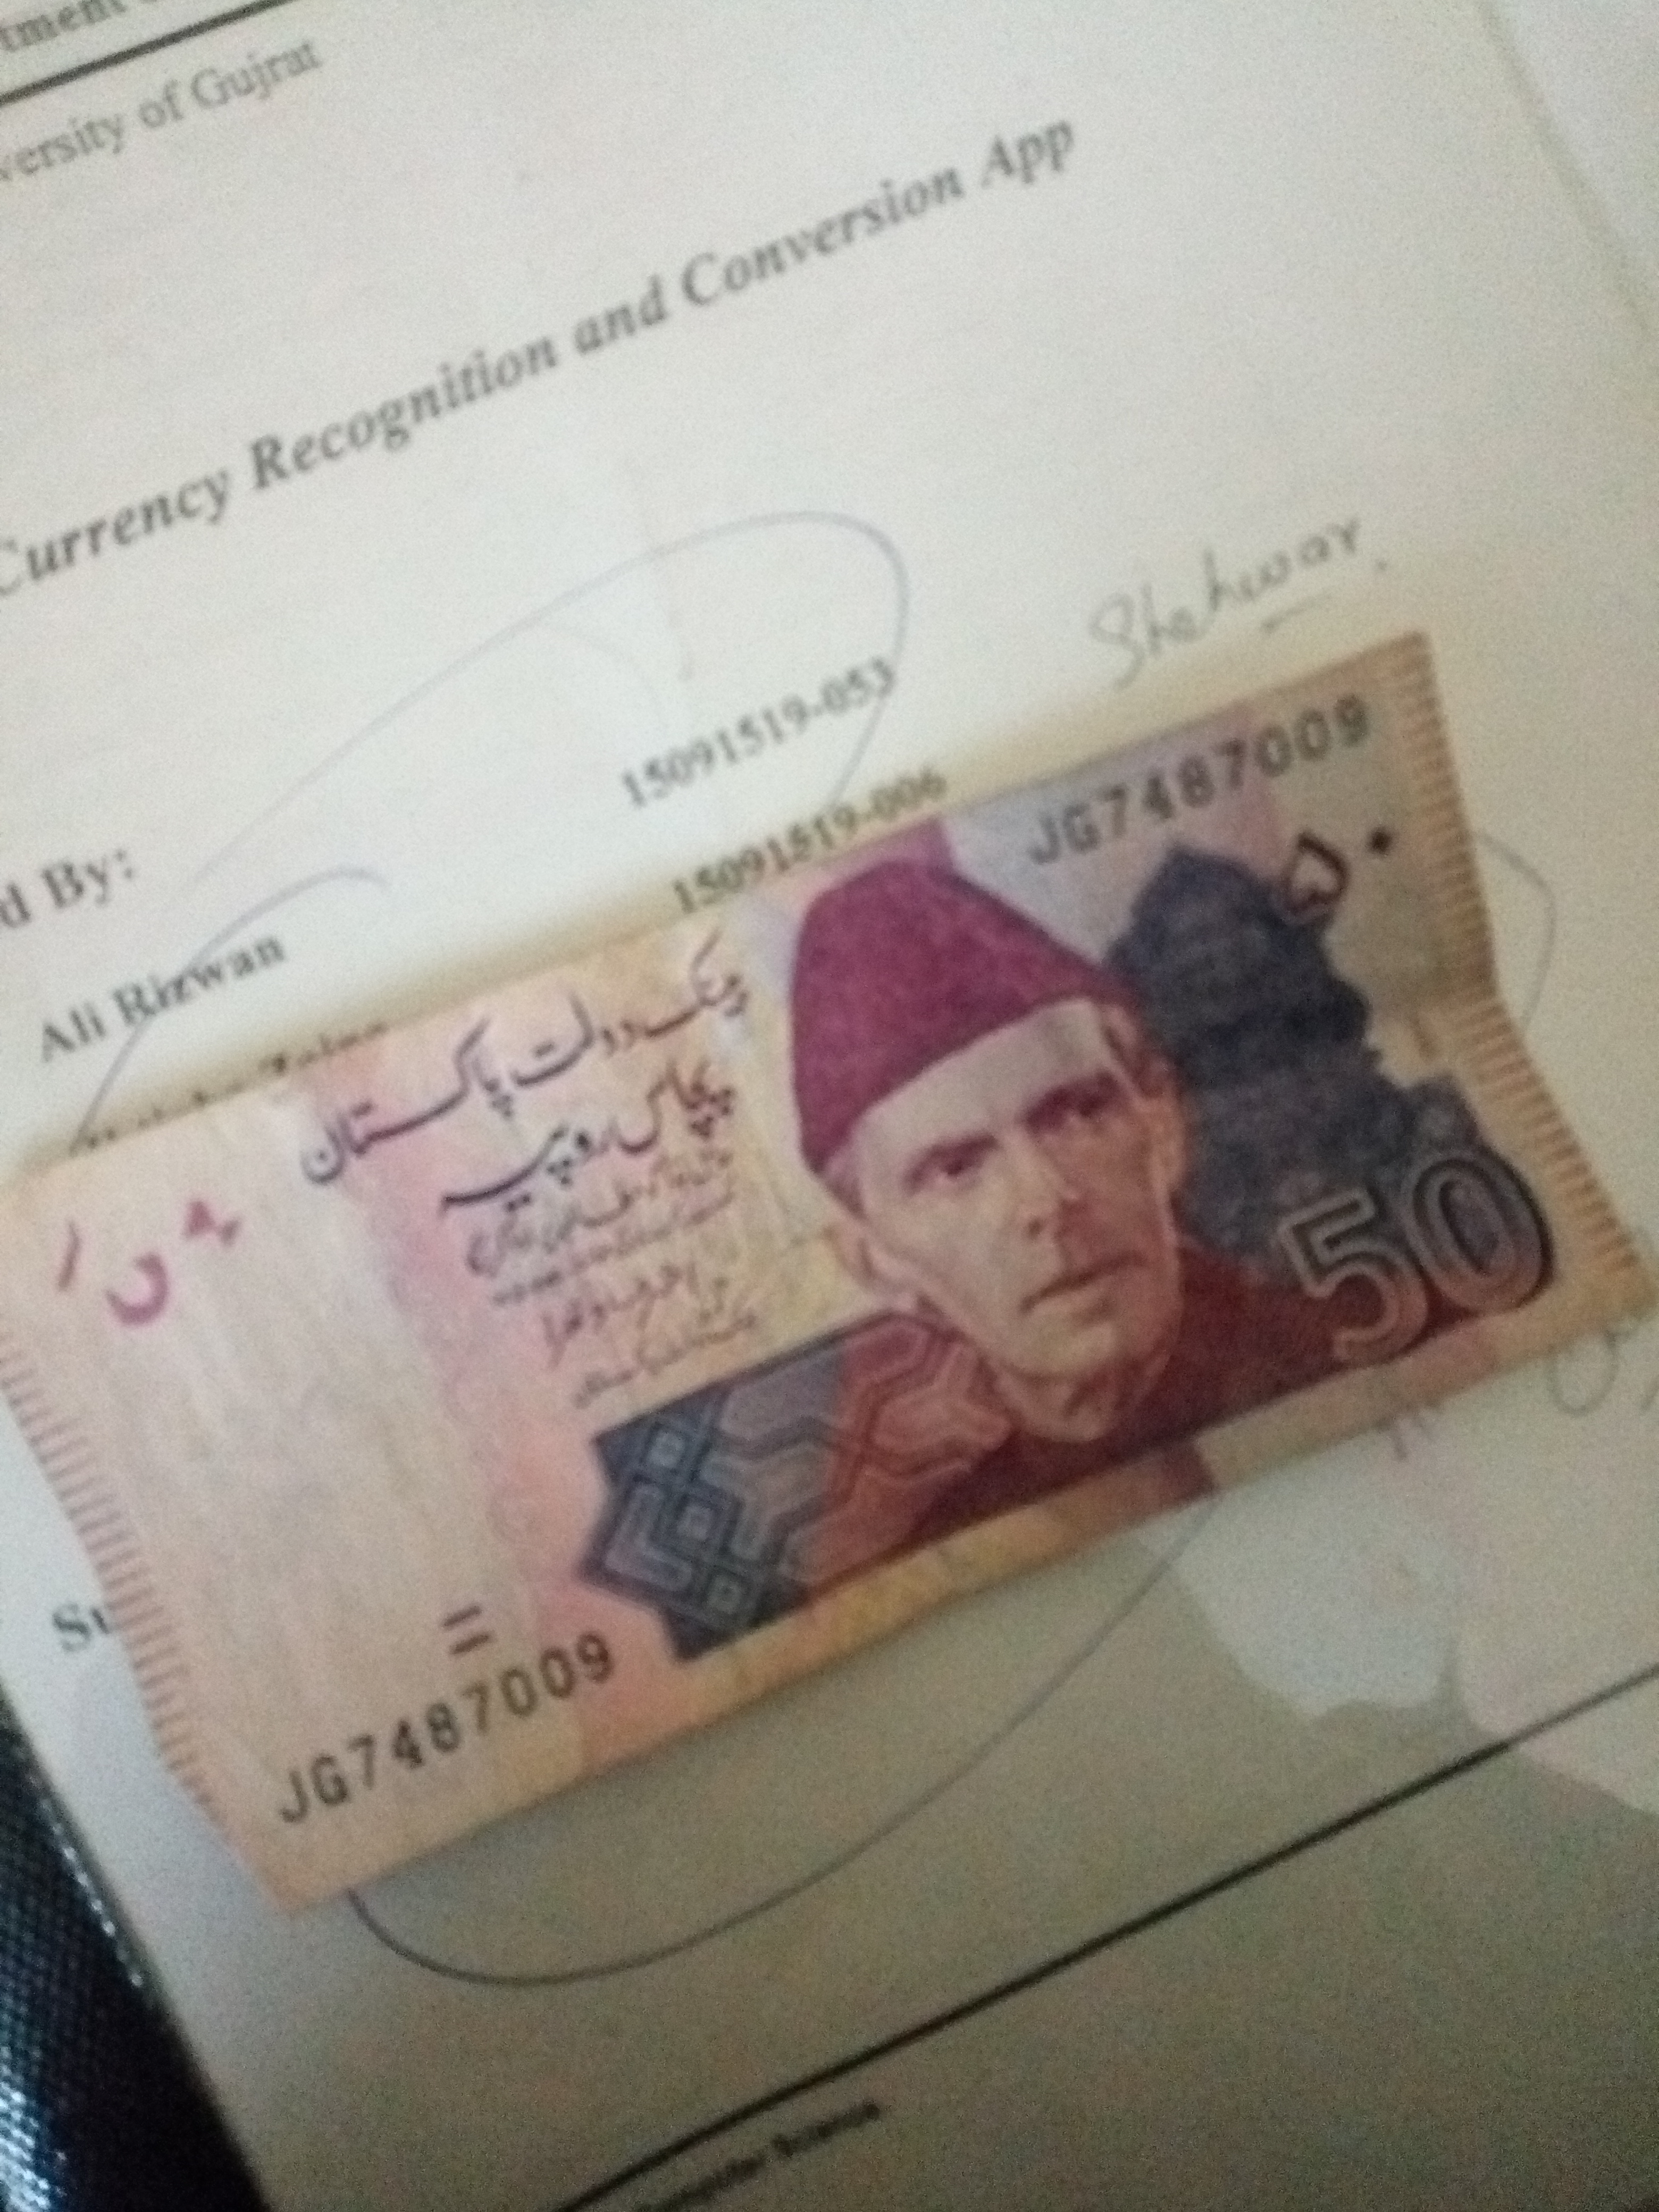50 rupee: (24, 625, 1610, 1850)
